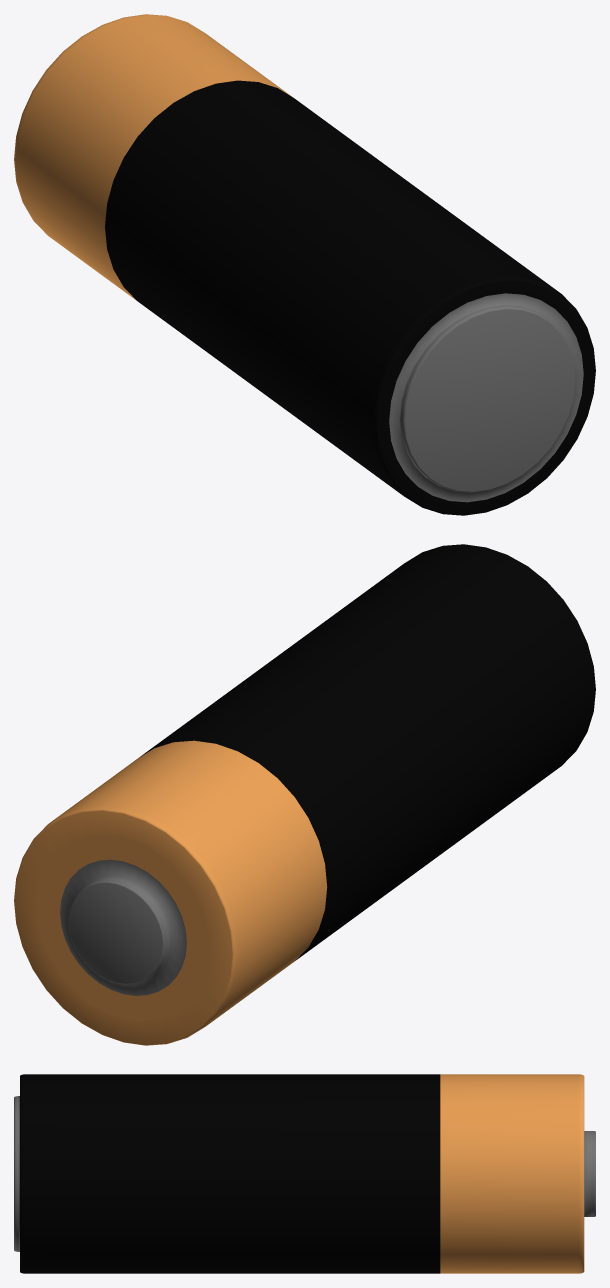
The model's file is Battery.fbx.
3 renders of one model, top to bottom at view 1: azimuth 30°, elevation 25°; view 2: azimuth 150°, elevation 25°; view 3: azimuth 270°, elevation 25°, orthographic. The views are drawn at different scales.
Parts seen in each view (by area): view 1: Battery; view 2: Battery; view 3: Battery.
Boxes of the visible parts, x1,y1,x2,y2 form: Battery: [14, 14, 595, 515]; Battery: [14, 544, 595, 1045]; Battery: [14, 1074, 595, 1273].
Size of the model in its own units: 0.024 by 0.024 by 0.07.
